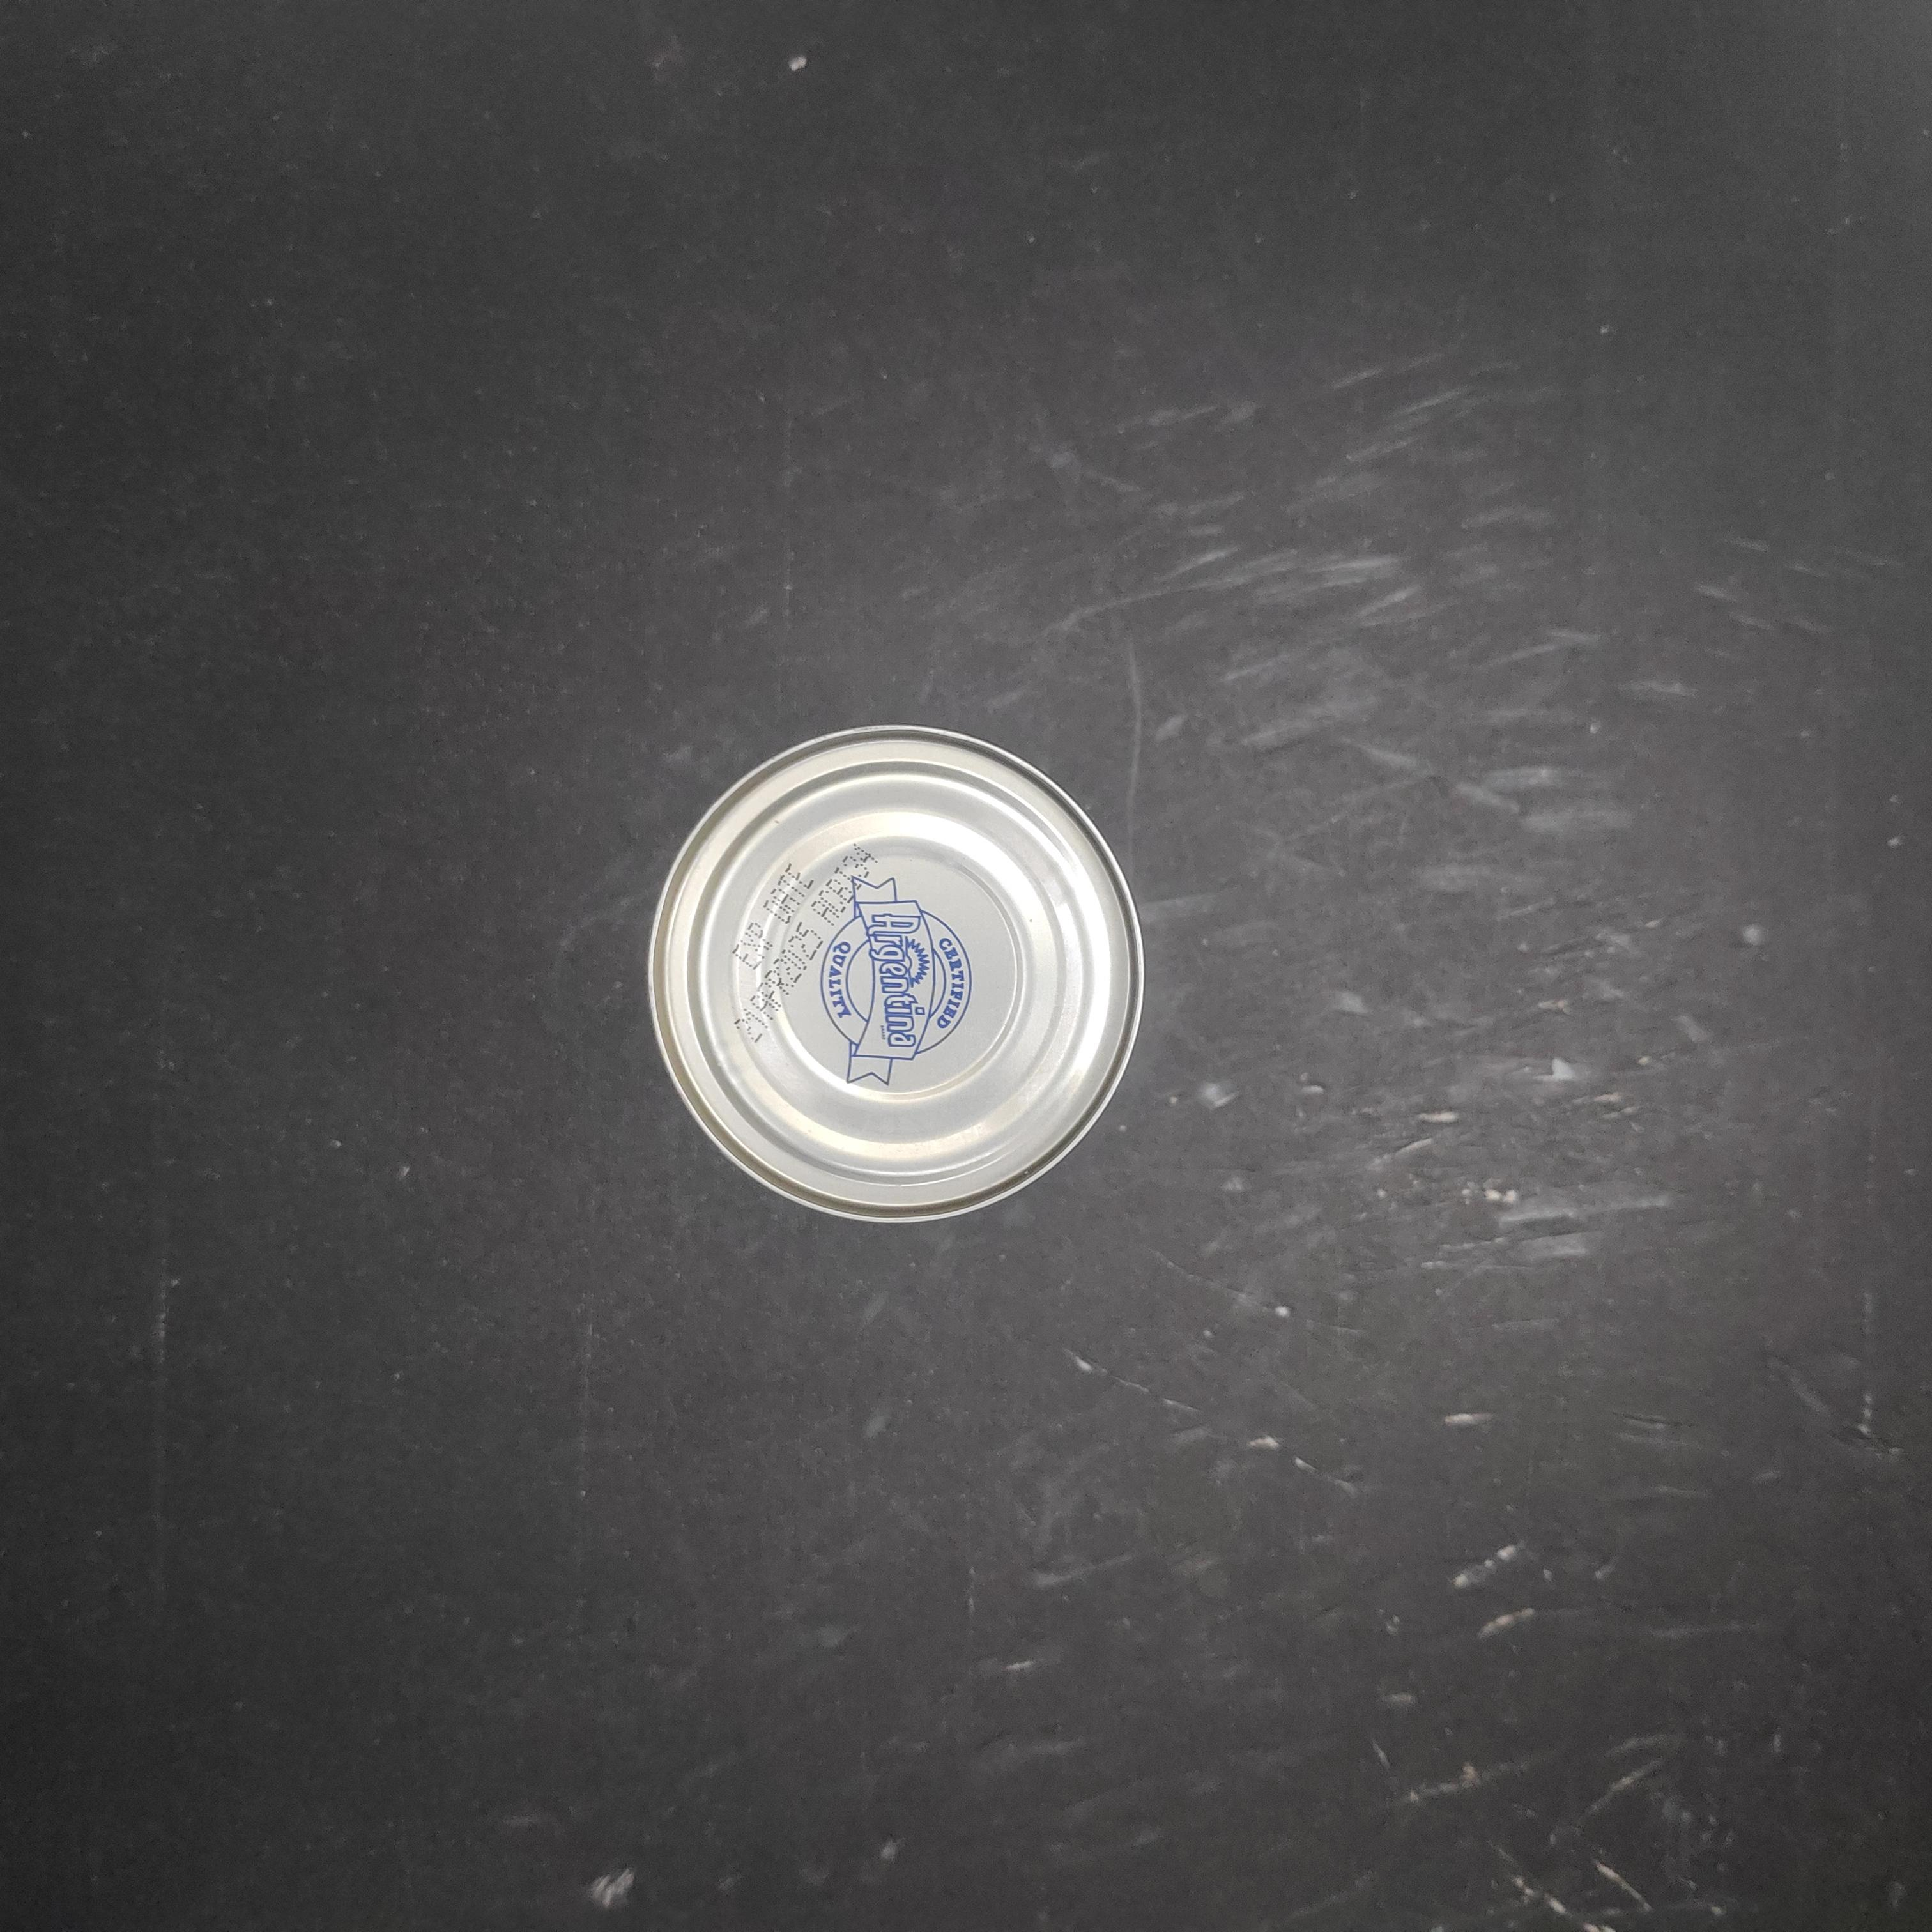No defect: (647, 722, 1143, 1221)
